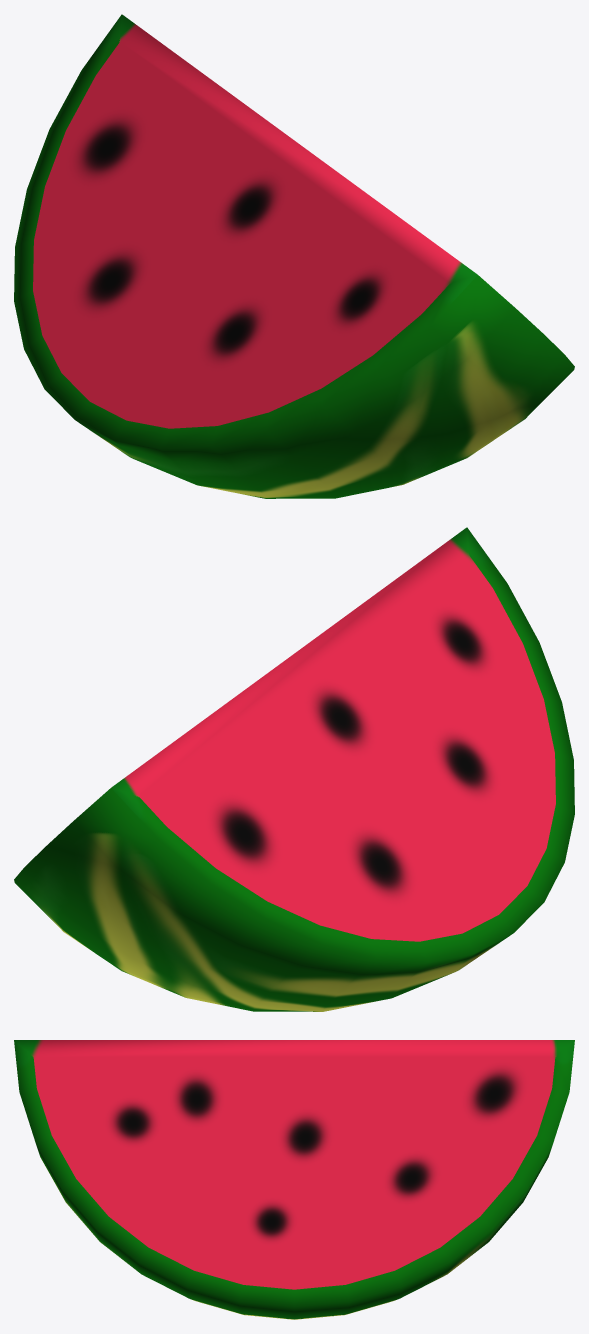
The model's file is sandia_model.fbx.
3 views of the same model, one above another, from view 1: azimuth 30°, elevation 25°; view 2: azimuth 150°, elevation 25°; view 3: azimuth 270°, elevation 25° (orthographic). The views are drawn at different scales.
Visible parts, largest first — view 1: sandia; view 2: sandia; view 3: sandia.
Part boxes in pixels (x1,y1,x2,y2): sandia: (14,14,574,498); sandia: (14,527,574,1011); sandia: (14,1040,574,1319).
Bounding box in the file's own units: 141 × 99.95 × 200.
